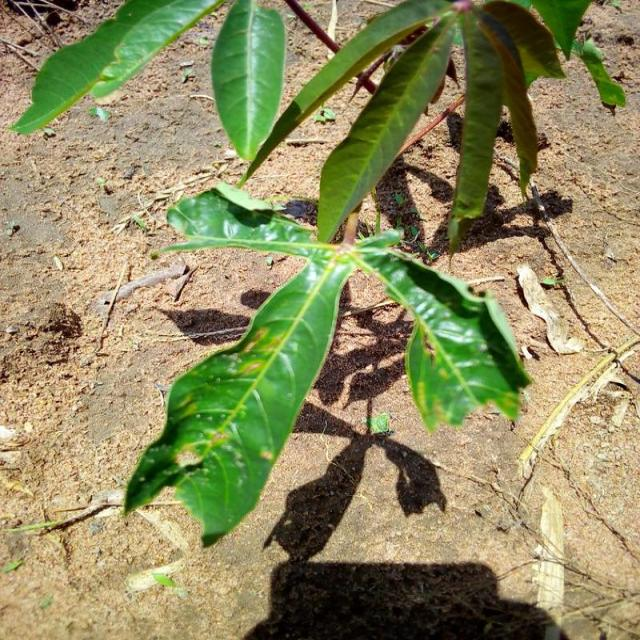cassava leaf: (123, 245, 354, 548), (355, 236, 532, 432), (316, 8, 458, 244), (9, 0, 226, 134), (211, 0, 288, 162)
